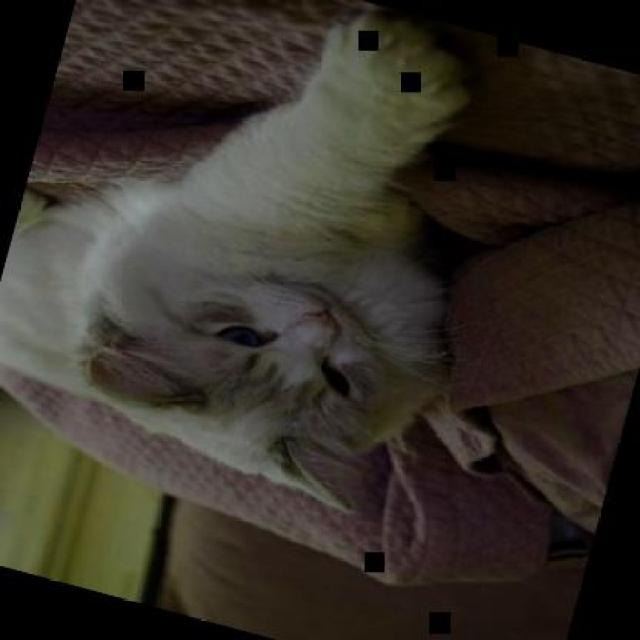cat: (0, 0, 531, 523)
